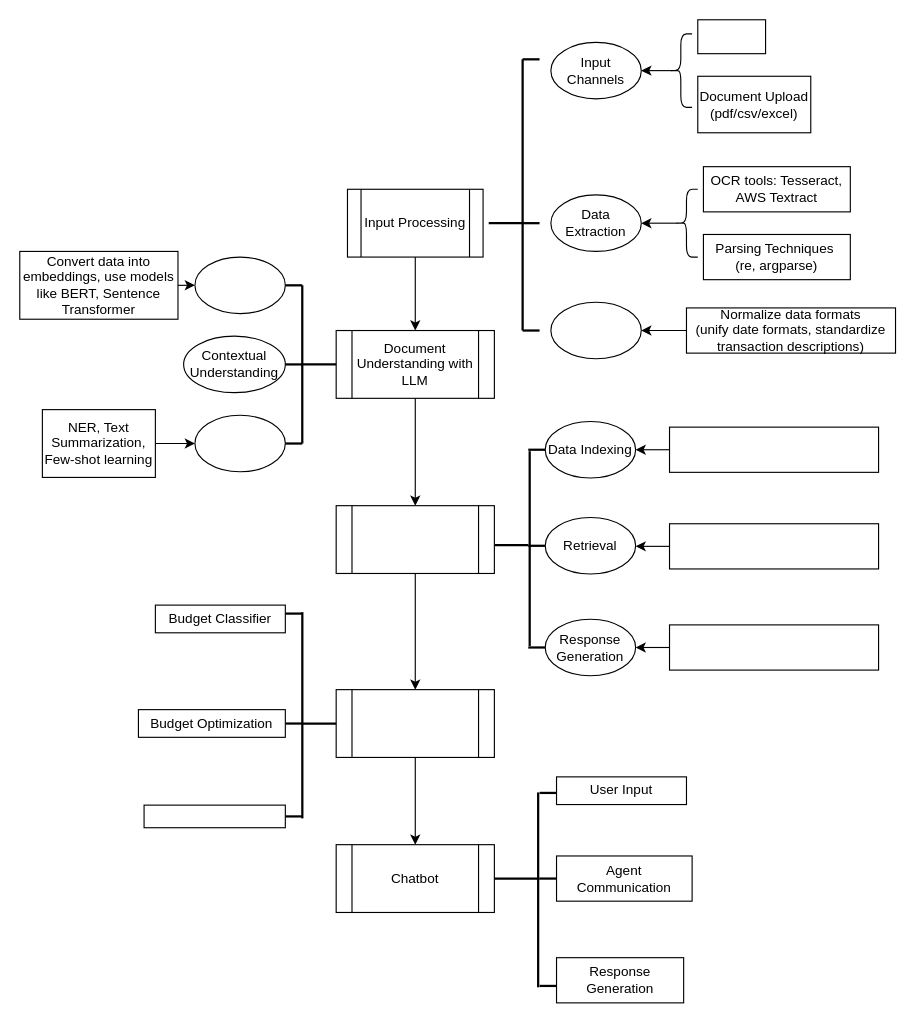
Image size: 915x1023. Some labels were removed from this diagram. The shapes that lost their labels are listed below. From the top down, each one's centre as x and y in pixels, then its label:
At point (731, 36): "Text".
At point (239, 285): "Embeddings".
At point (595, 330): "Data Validation and Cleaning".
At point (239, 443): "Techniques".
At point (773, 449): "Store embeddings into Vector store (ChromaDB, FAISS, Pinecone)".
At point (414, 539): "RAG".
At point (773, 546): "Query the VectorDB for the most relevant chunks.".
At point (773, 647): "Combine retrieved context with the LLM’s generative capabilities.".
At point (414, 723): "Multi-Agent Processing".
At point (214, 816): "Investment Agent".
